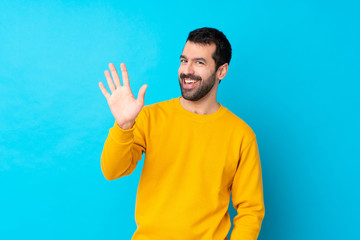Hello: (99, 61, 150, 129)
